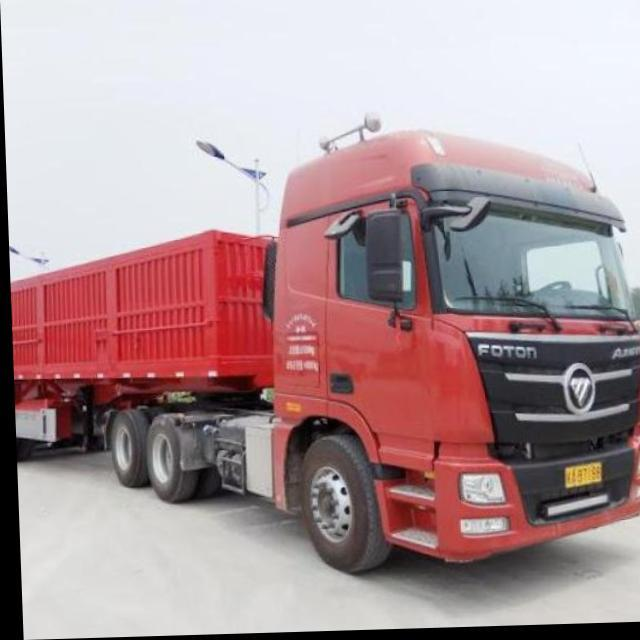uncovered: (8, 222, 600, 576)
